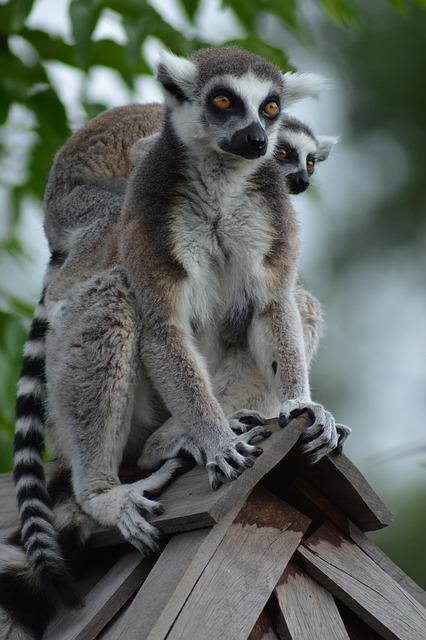Non_Gorille: (35, 39, 373, 536)
